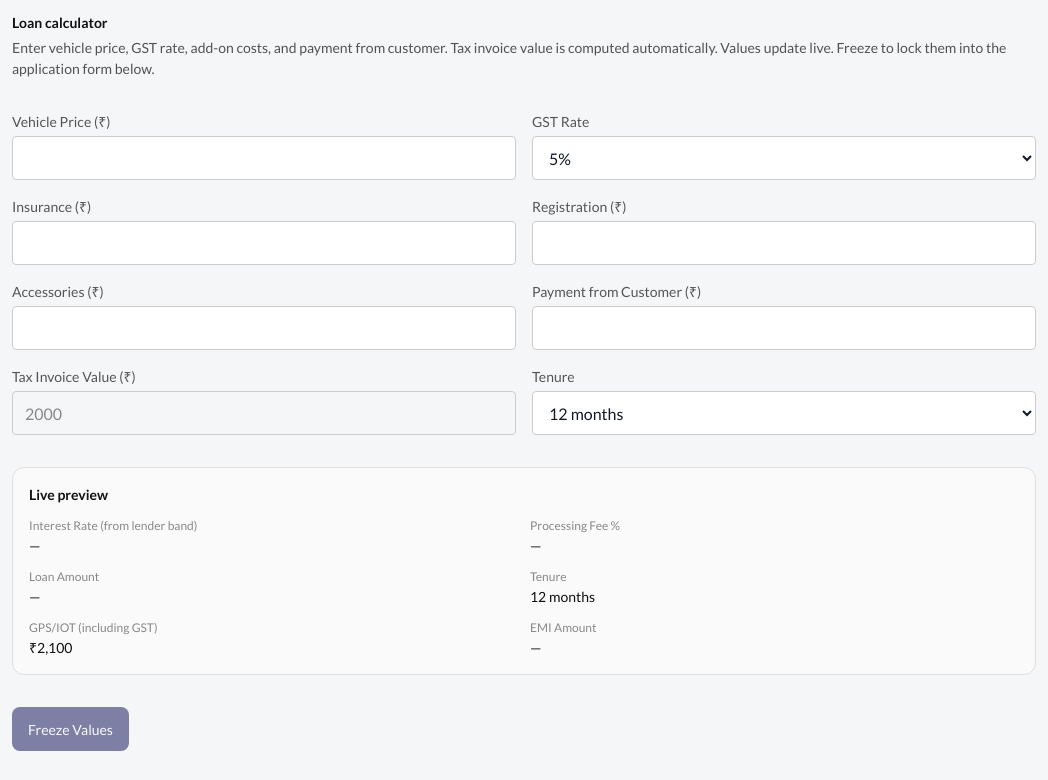
Test case: LoanCalculator › updates live preview when tenure changes to 18 months
Step 1. Type "100000" into the field with test id "loan-calc-vehicle-price" → (264,158), box [12,136,516,180]
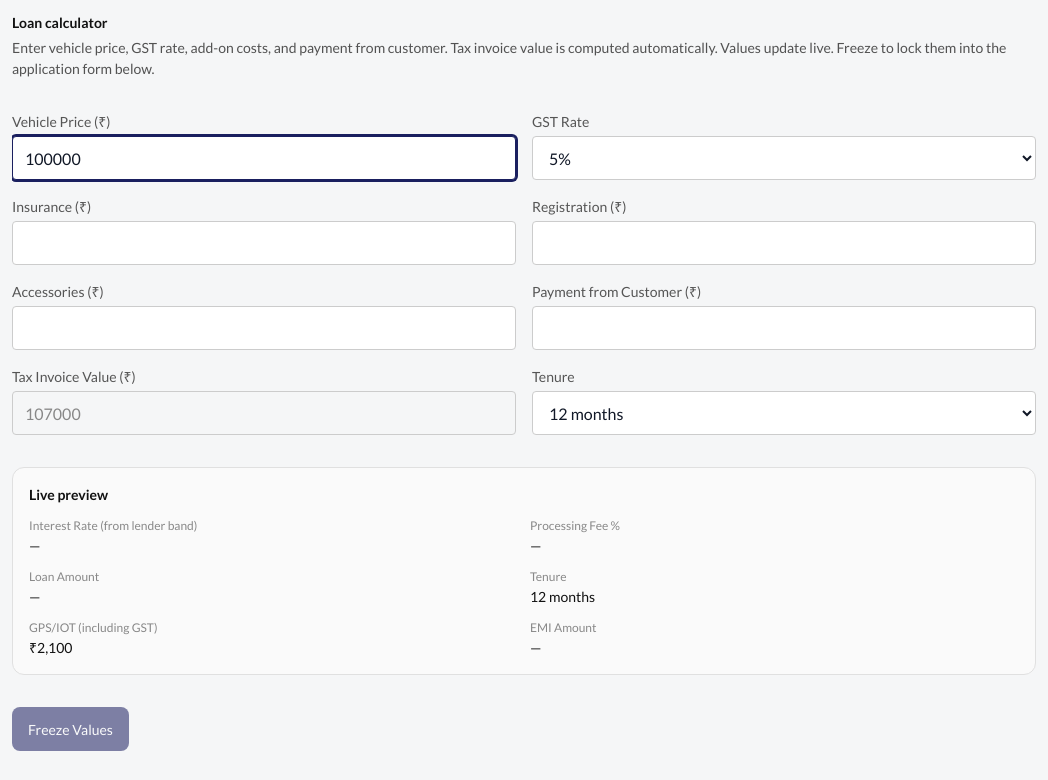
Step 2. Select "18 months" in the dropdown with test id "loan-calc-tenure" → (784,413), box [532,391,1036,435]
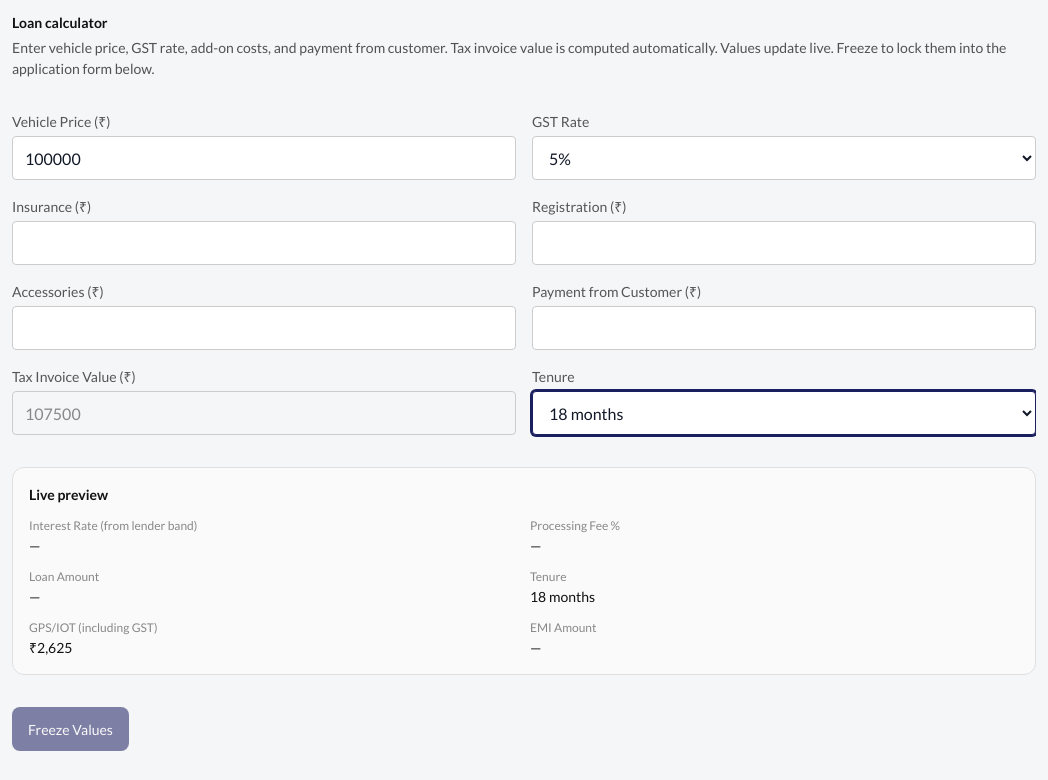
Result: the text with test id "loan-calc-preview-gps" reads "₹2,625" at [29,639,72,656]
Result: the text with test id "loan-calc-preview-tenure" reads "18 months" at [530,588,595,605]
